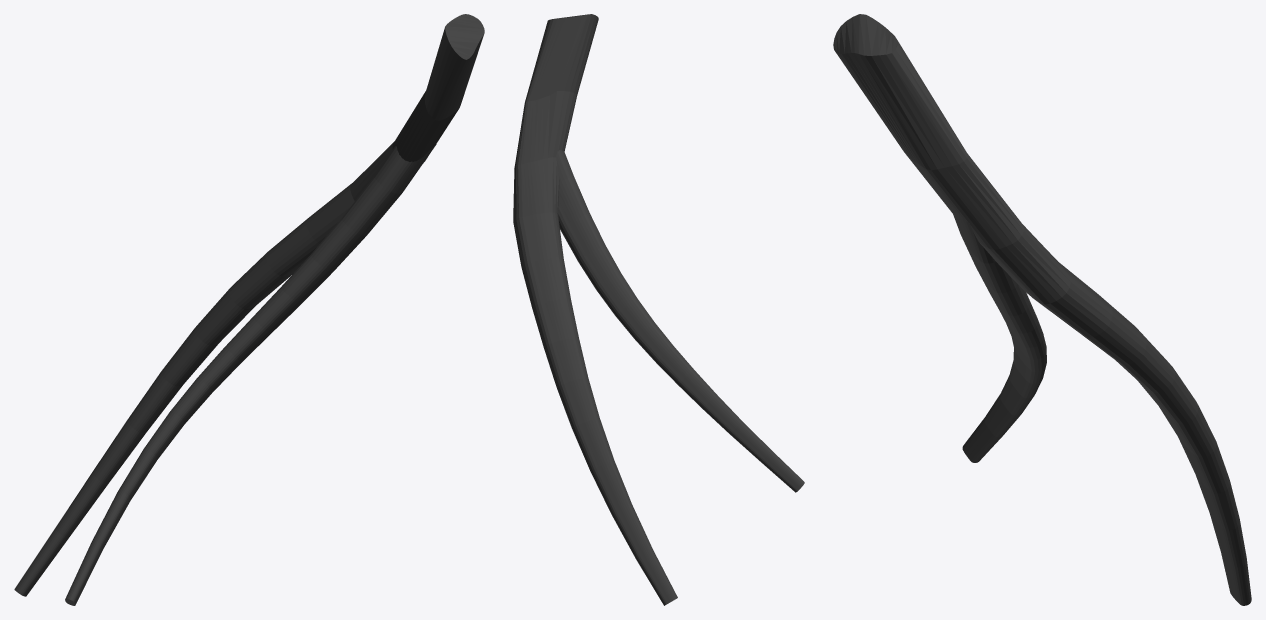
Rendered from N_5_trigeminus_mandibular_pterygoid.glb.
The picture shows the model from 3 angles, left to right: view 1: azimuth 30°, elevation 25°; view 2: azimuth 150°, elevation 25°; view 3: azimuth 270°, elevation 25°; orthographic projection. The views are drawn at different scales.
Parts seen in each view (by area): view 1: N_5_trigeminus_mandibular_pterygoid; view 2: N_5_trigeminus_mandibular_pterygoid; view 3: N_5_trigeminus_mandibular_pterygoid.
Part boxes in pixels (<box>): N_5_trigeminus_mandibular_pterygoid: <box>14,14,484,605</box>; N_5_trigeminus_mandibular_pterygoid: <box>513,14,804,605</box>; N_5_trigeminus_mandibular_pterygoid: <box>833,14,1251,605</box>.
Bounding box in the file's own units: 0.00256 × 0.00398 × 0.00203.
1 material, 1 textured.
